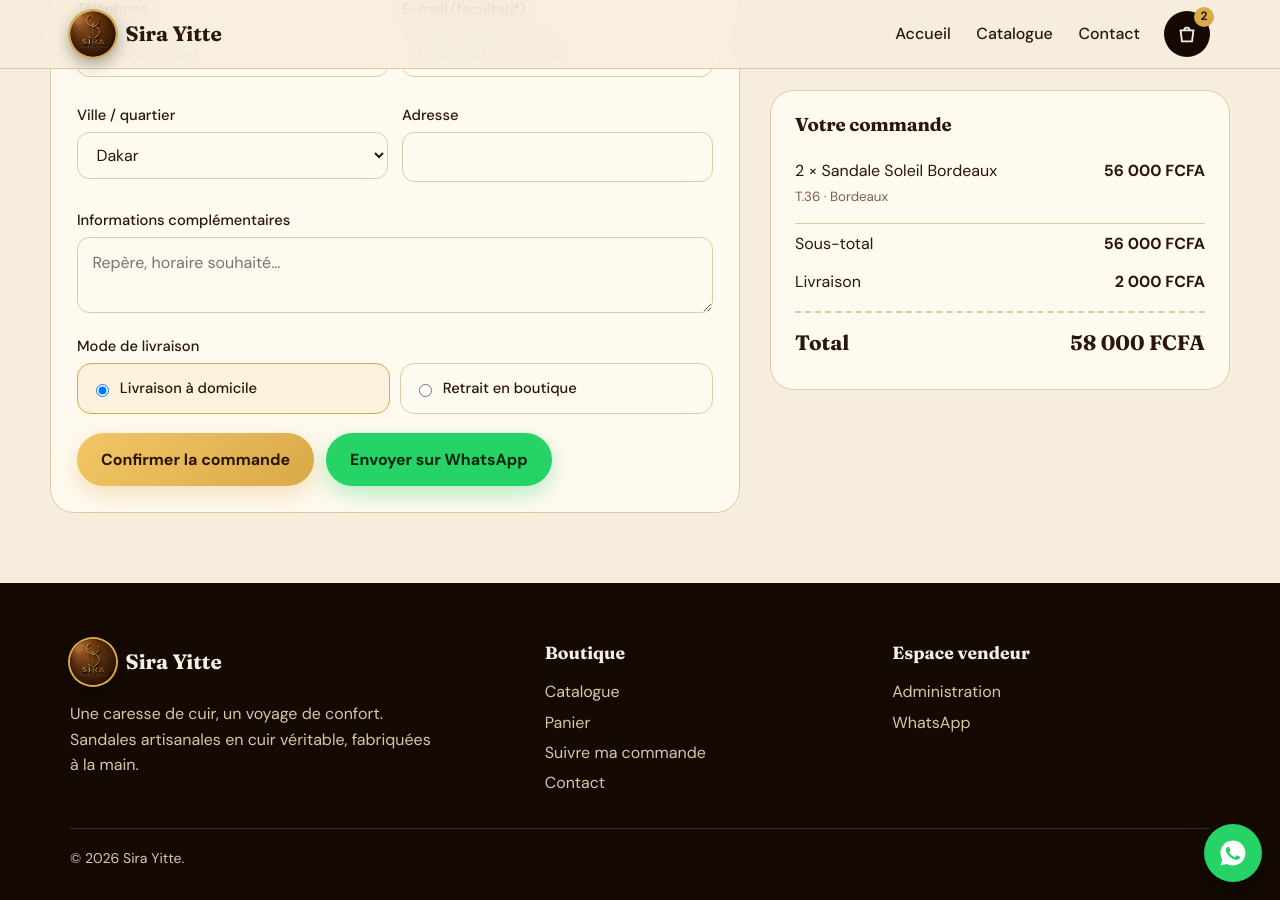
Test case: Commande › valide le formulaire côté client avant d’appeler l’API
(page scrolled)
Click the button "Confirmer la commande". click: (196, 460)
box: x1=77 y1=433 x2=314 y2=486
(page scrolled)
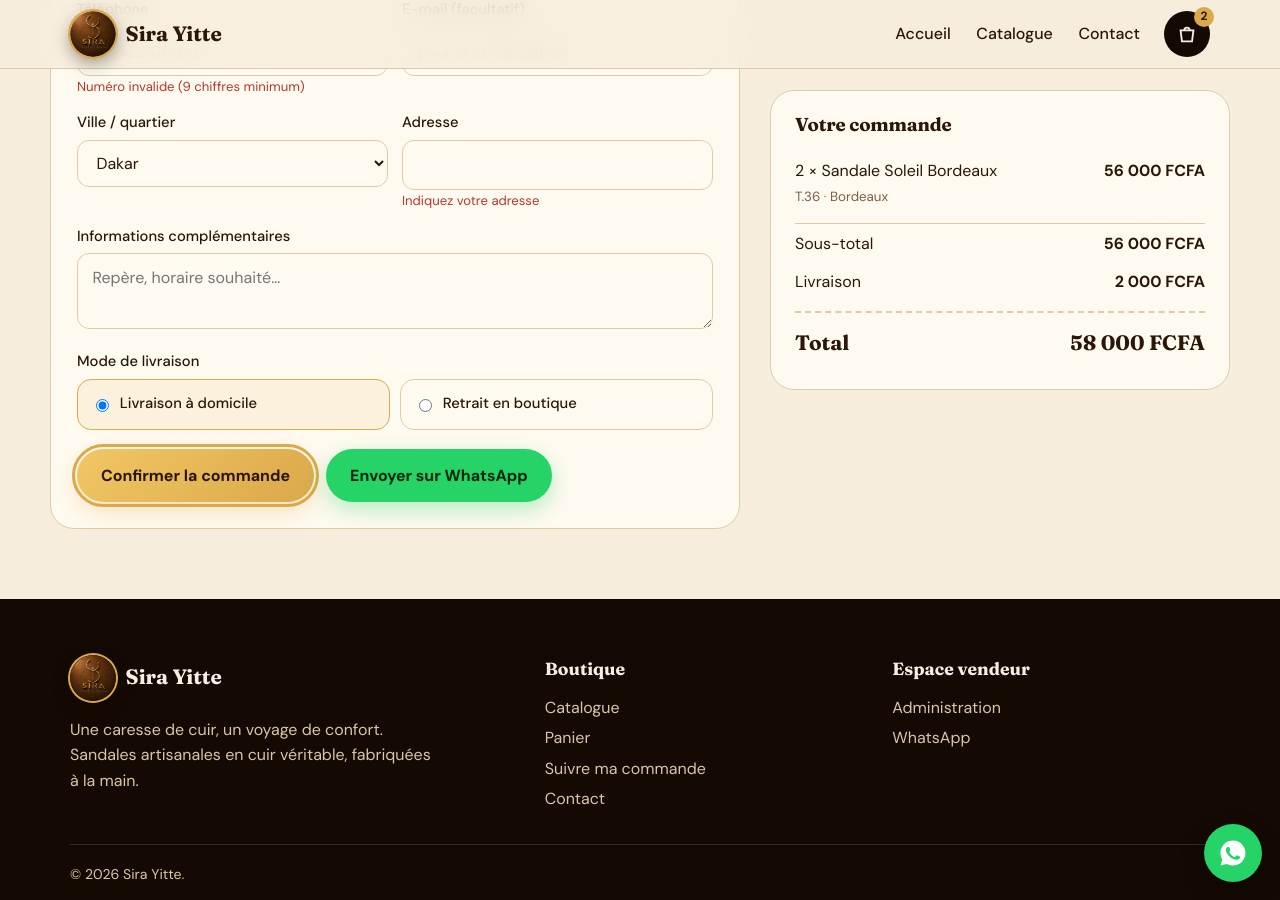
expect the text "Numéro invalide (9 chiffres minimum)" is shown: met, box x1=77 y1=78 x2=305 y2=96
